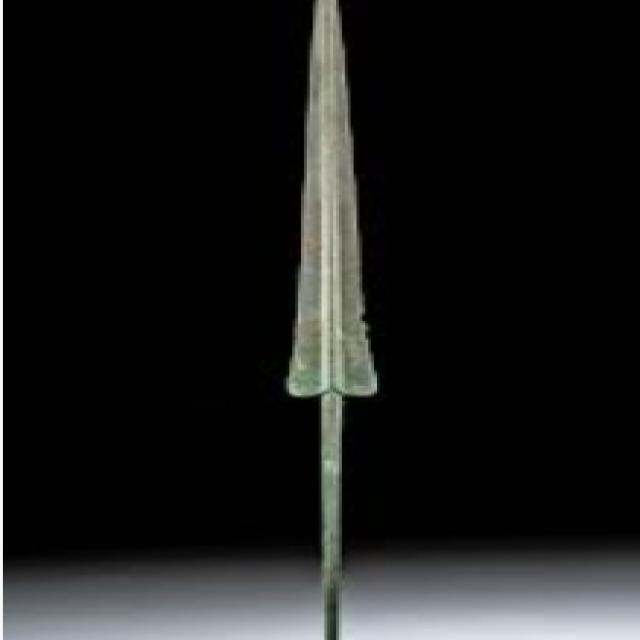spear: (266, 0, 386, 640)
